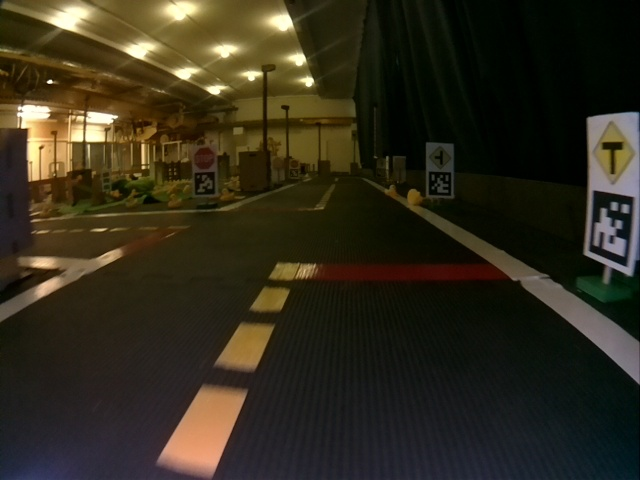Duckie: (407, 189, 423, 205), (168, 194, 182, 207), (221, 189, 234, 201), (385, 185, 396, 197)
Intersection sign: (593, 120, 635, 184), (430, 146, 451, 169)
QR code: (591, 190, 630, 268), (428, 173, 451, 195), (195, 172, 215, 192)
Stop sign: (194, 147, 216, 169)
